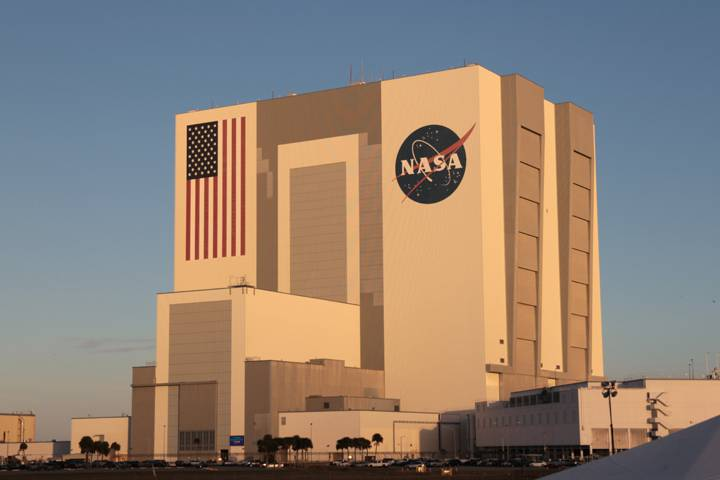NASA: (382, 117, 484, 205)
